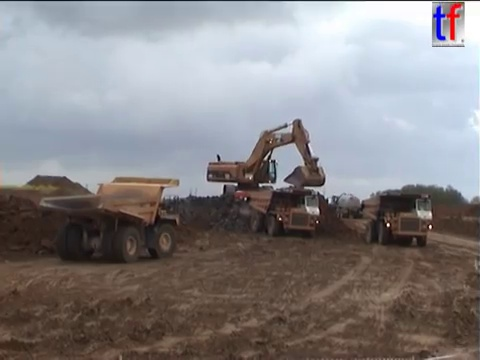excavator: (204, 117, 327, 211), (216, 187, 302, 215)
truck: (37, 174, 182, 265), (359, 192, 434, 248), (245, 187, 321, 237), (328, 191, 362, 218)
